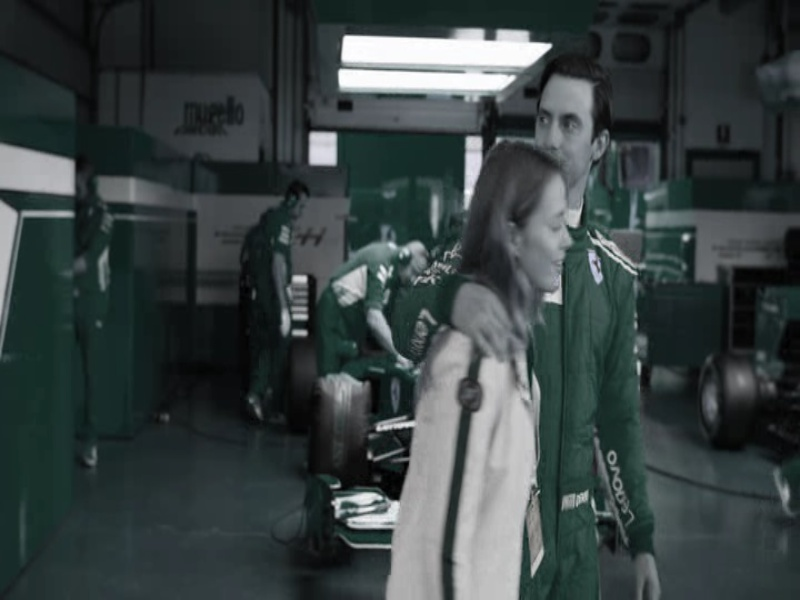TsisyArotava: (486, 137, 582, 316), (523, 57, 616, 210)
